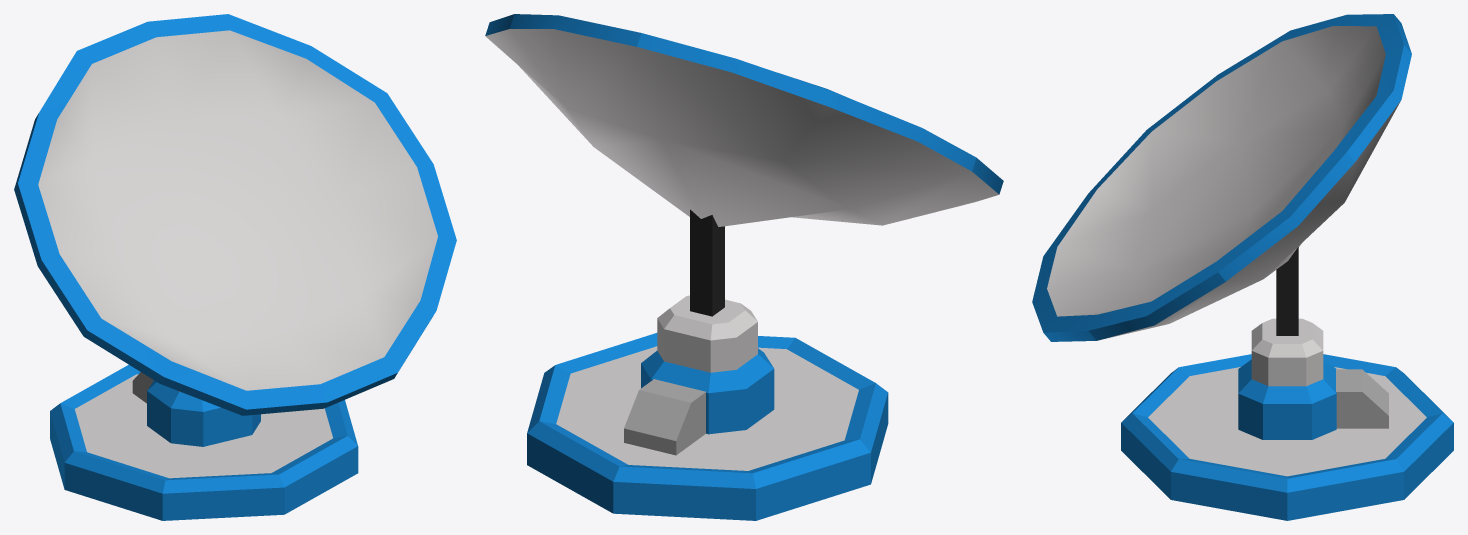
File: Radar.fbx
The picture shows the model from 3 angles, left to right: view 1: azimuth 30°, elevation 25°; view 2: azimuth 150°, elevation 25°; view 3: azimuth 270°, elevation 25°; orthographic projection. The views are drawn at different scales.
Visible parts, largest first — view 1: Radar, Base, BoxE; view 2: Radar, Base, BoxE, L, Connect; view 3: Radar, Base, BoxE, L, Connect.
Part boxes in pixels (left/top/right/bottom): Radar: left=14, top=14, right=456, bottom=415; Base: left=50, top=365, right=358, bottom=520; BoxE: left=147, top=380, right=260, bottom=446; Radar: left=485, top=14, right=1003, bottom=226; Base: left=527, top=333, right=888, bottom=520; BoxE: left=641, top=295, right=774, bottom=434; L: left=624, top=379, right=705, bottom=455; Connect: left=690, top=209, right=724, bottom=316; Radar: left=1032, top=14, right=1411, bottom=341; Base: left=1121, top=354, right=1453, bottom=520; BoxE: left=1238, top=318, right=1336, bottom=439; L: left=1336, top=369, right=1388, bottom=428; Connect: left=1276, top=247, right=1298, bottom=335.
Bounding box in the file's own units: 8.79 × 8.41 × 7.92.
